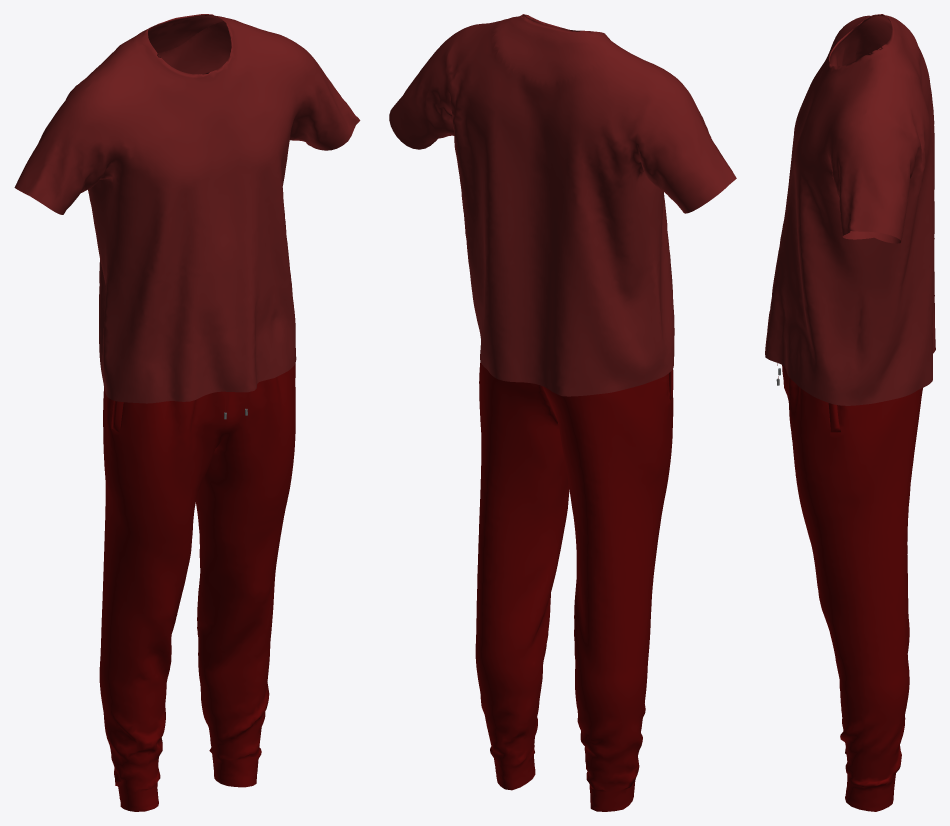
File: Default_garment_Male.fbx
3 views of the same model, side by side, from view 1: azimuth 30°, elevation 25°; view 2: azimuth 150°, elevation 25°; view 3: azimuth 270°, elevation 25° (orthographic). The views are drawn at different scales.
Parts seen in each view (by area): view 1: TSHIRTREGULARSSTGM-FRONT, 7, 6, TSHIRTREGULARSSTGM-SLEEVE, TSHIRTREGULARSSTGM-BACK, TSHIRTREGULARSSTGM-SLEEVE_1, 3, 4, TSHIRTREGULARSSTGM-COL, Pattern_1086885, 12, 17; view 2: TSHIRTREGULARSSTGM-BACK, 3, 4, TSHIRTREGULARSSTGM-SLEEVE, TSHIRTREGULARSSTGM-SLEEVE_1, TSHIRTREGULARSSTGM-FRONT, 7, 6, 17, 12, TSHIRTREGULARSSTGM-COL; view 3: TSHIRTREGULARSSTGM-FRONT, 4, TSHIRTREGULARSSTGM-BACK, 6, TSHIRTREGULARSSTGM-SLEEVE_1, TSHIRTREGULARSSTGM-SLEEVE, 12, TSHIRTREGULARSSTGM-COL.
Boxes of the visible parts, bbox=[...] form: TSHIRTREGULARSSTGM-FRONT: bbox=[88, 23, 302, 403]; 7: bbox=[109, 391, 230, 792]; 6: bbox=[202, 365, 295, 766]; TSHIRTREGULARSSTGM-SLEEVE: bbox=[14, 85, 115, 214]; TSHIRTREGULARSSTGM-BACK: bbox=[76, 15, 288, 395]; TSHIRTREGULARSSTGM-SLEEVE_1: bbox=[289, 39, 360, 150]; 3: bbox=[99, 387, 122, 789]; 4: bbox=[196, 467, 268, 762]; TSHIRTREGULARSSTGM-COL: bbox=[140, 14, 236, 82]; Pattern_1086885: bbox=[148, 16, 223, 52]; 12: bbox=[212, 759, 258, 787]; 17: bbox=[118, 784, 158, 811]; TSHIRTREGULARSSTGM-BACK: bbox=[443, 16, 664, 396]; 3: bbox=[542, 374, 668, 792]; 4: bbox=[475, 362, 567, 769]; TSHIRTREGULARSSTGM-SLEEVE: bbox=[634, 76, 736, 213]; TSHIRTREGULARSSTGM-SLEEVE_1: bbox=[389, 29, 462, 149]; TSHIRTREGULARSSTGM-FRONT: bbox=[470, 23, 674, 376]; 7: bbox=[633, 374, 673, 783]; 6: bbox=[520, 481, 569, 767]; 17: bbox=[589, 781, 635, 811]; 12: bbox=[494, 757, 535, 790]; TSHIRTREGULARSSTGM-COL: bbox=[516, 14, 609, 39]; TSHIRTREGULARSSTGM-FRONT: bbox=[765, 15, 872, 405]; 4: bbox=[844, 388, 922, 791]; TSHIRTREGULARSSTGM-BACK: bbox=[847, 15, 935, 405]; 6: bbox=[782, 365, 864, 786]; TSHIRTREGULARSSTGM-SLEEVE_1: bbox=[828, 112, 914, 243]; TSHIRTREGULARSSTGM-SLEEVE: bbox=[830, 17, 892, 66]; 12: bbox=[845, 782, 894, 811]; TSHIRTREGULARSSTGM-COL: bbox=[827, 14, 896, 73].
Bounding box in the file's own units: 0.677 × 1.5 × 0.309.
